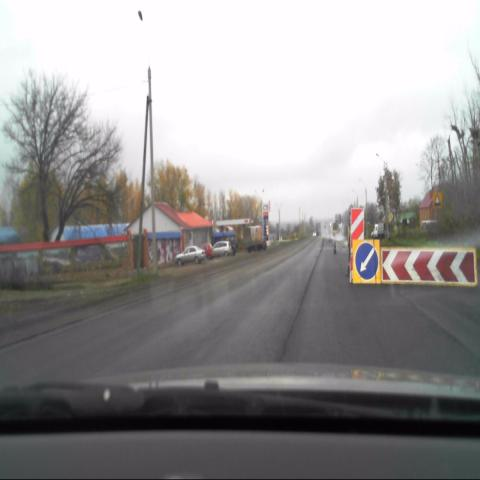1_16: (432, 190, 444, 210)
